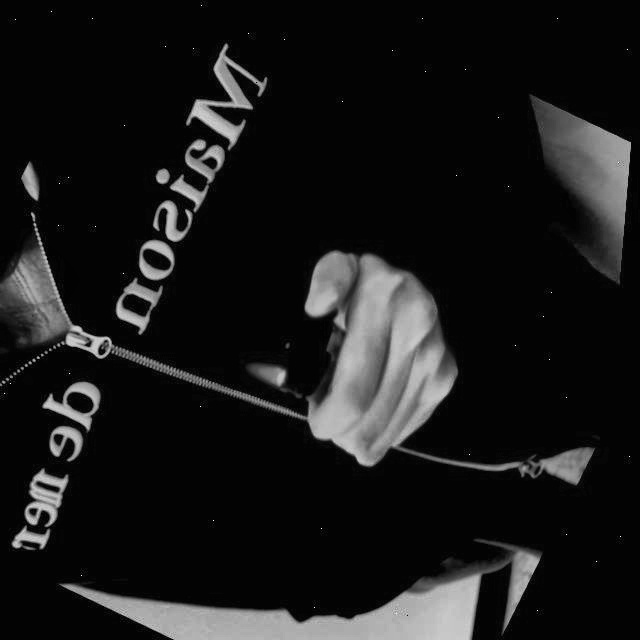Fire: (244, 343, 292, 383)
